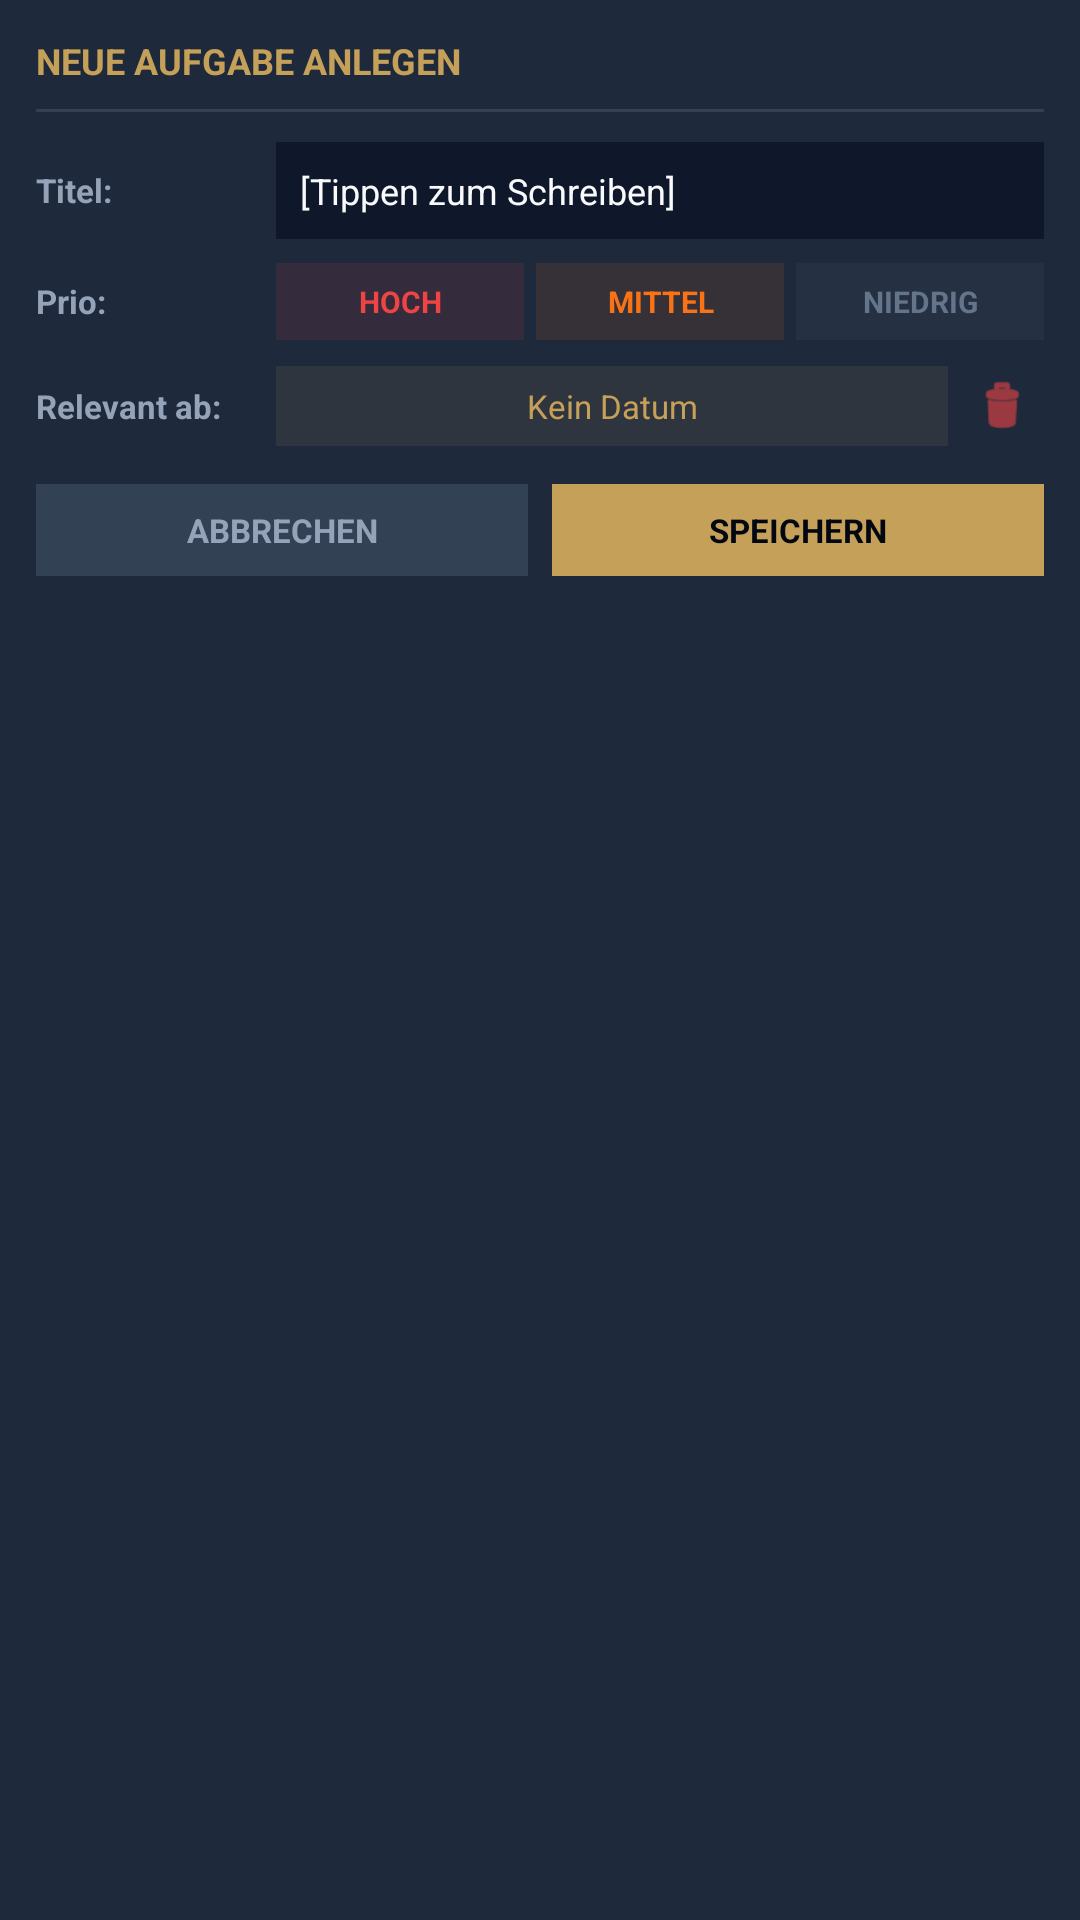

Locate icon controls on the screen. Image size 1080w x 1920h, boxes as (x1, y1, x2, y2).
Datum löschen: (985, 382, 1019, 429)
